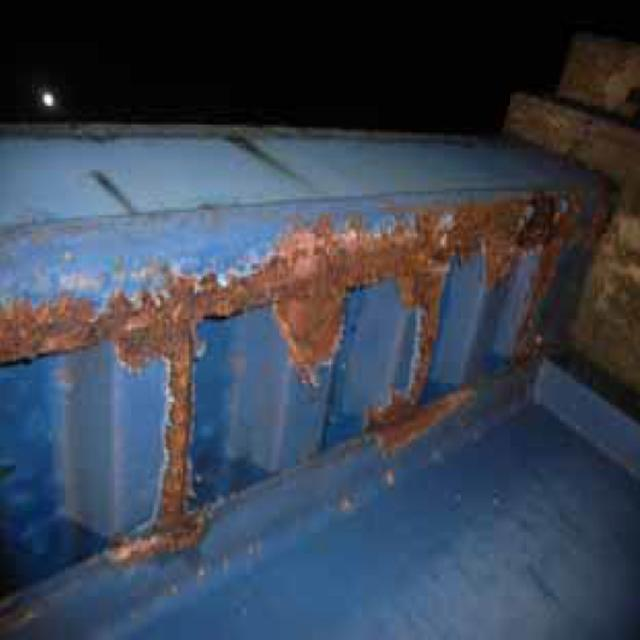corrosion: (14, 137, 622, 573)
